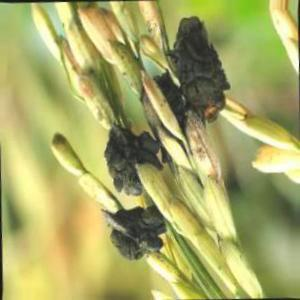Leaf_Scald: (183, 17, 222, 118), (110, 126, 150, 196), (112, 209, 161, 260)
